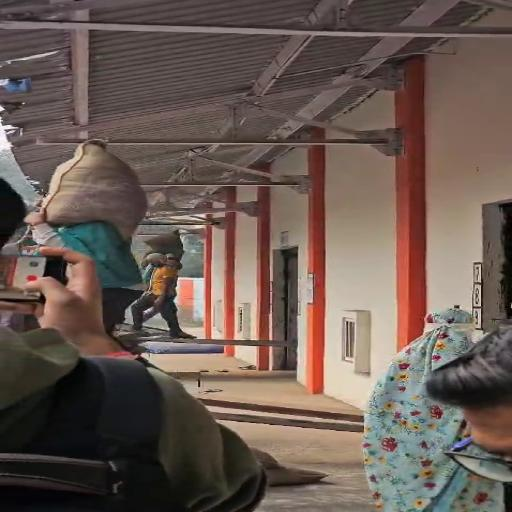bag: (34, 132, 151, 238)
